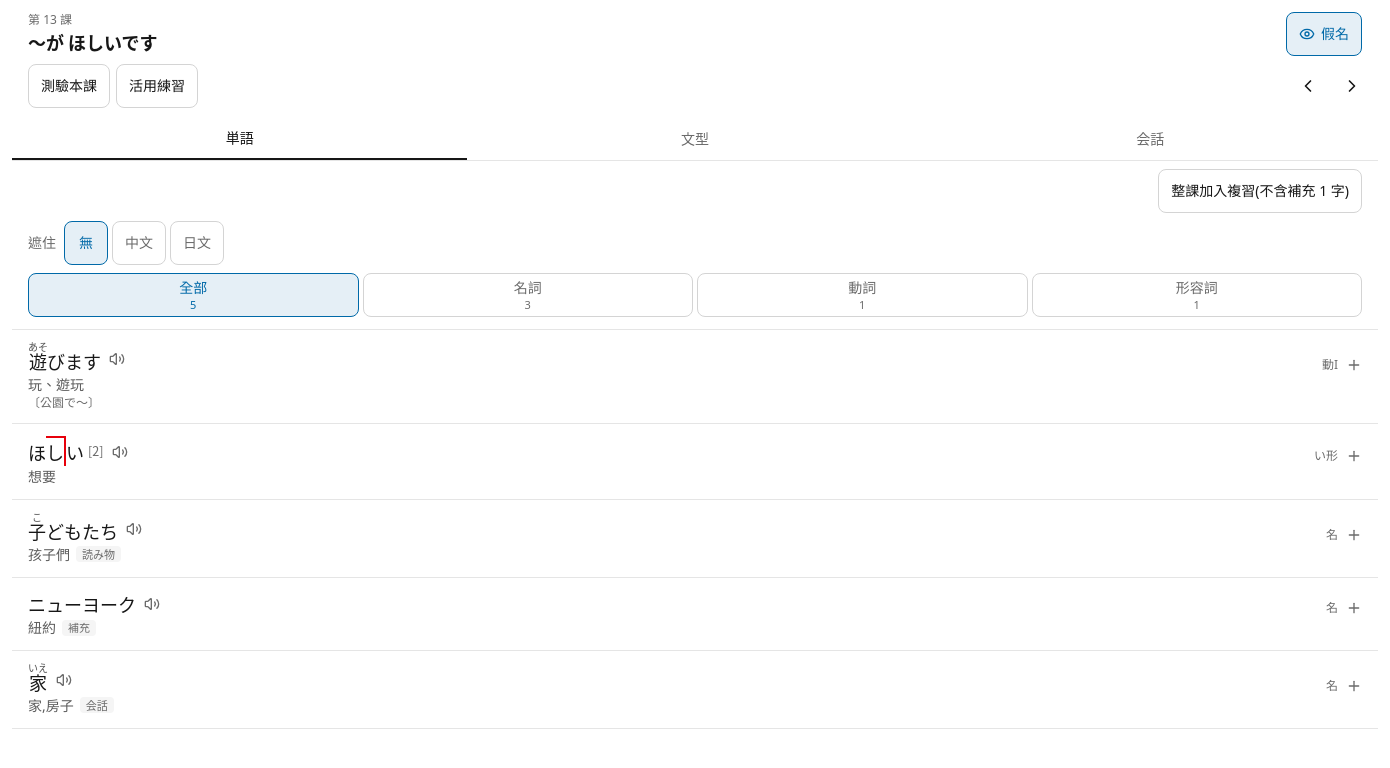
Test: LessonDetail 自我測驗與詞性篩選(T11.1) › 遮中文:釋義與 note 不在無障礙樹中,點擊揭示(aria-expanded)、再點遮回
Expected: the text "玩、遊玩" is shown, 28,375 -> 84,394
Step 1. Click the button "中文" → (139, 243), box 112,221 -> 166,265
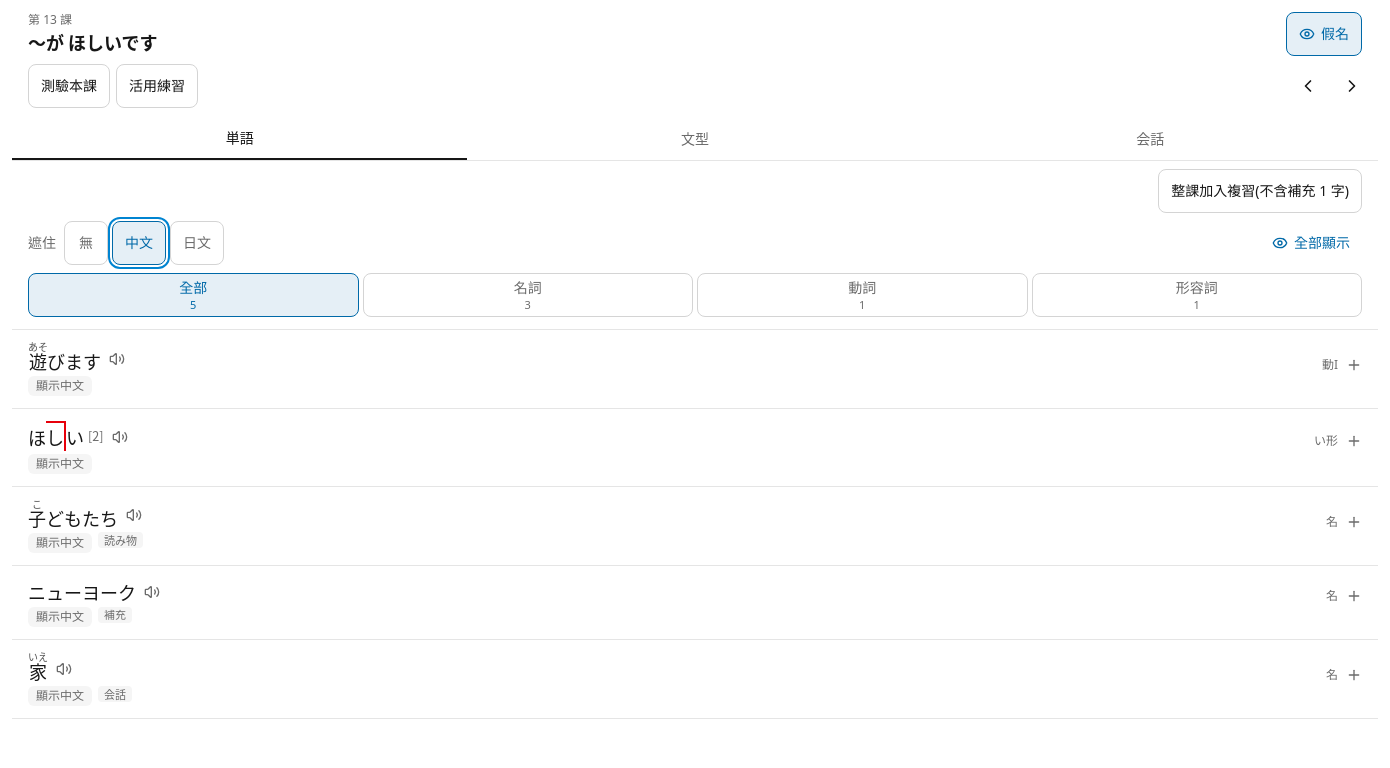
Expected: the text "玩、遊玩" is gone
Expected: the text "〔公園で〜〕" is gone
Expected: the button with aria-label "顯示中文:あそびます" reads "顯示中文"
Step 2. Click the button with aria-label "顯示中文:あそびます" → (60, 386), box 28,363 -> 92,408
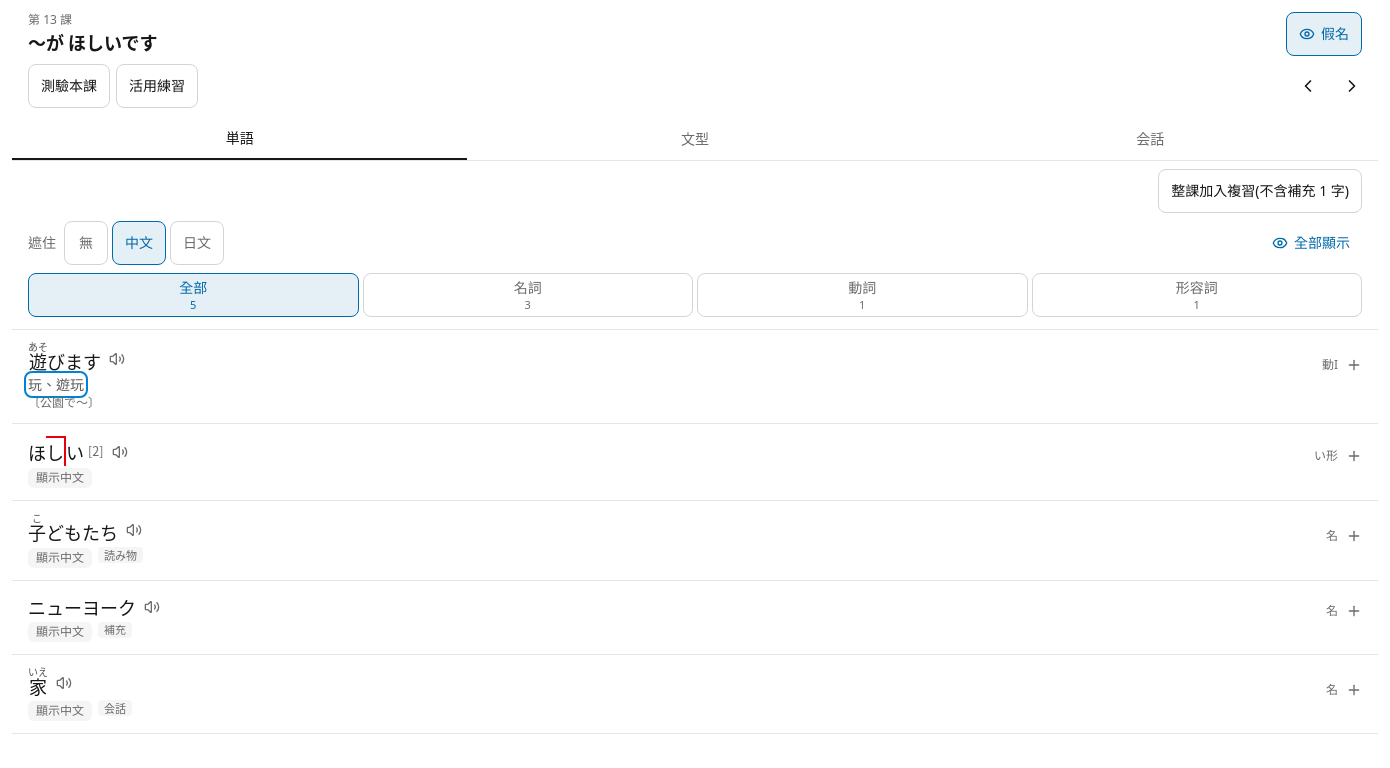
Expected: the text "想要" is not shown
Expected: the button named "顯示中文:あそびます" is expanded
Expected: the text "〔公園で〜〕" is shown, 28,394 -> 100,411
Step 3. Click the button "玩、遊玩" → (56, 385), box 28,363 -> 84,407
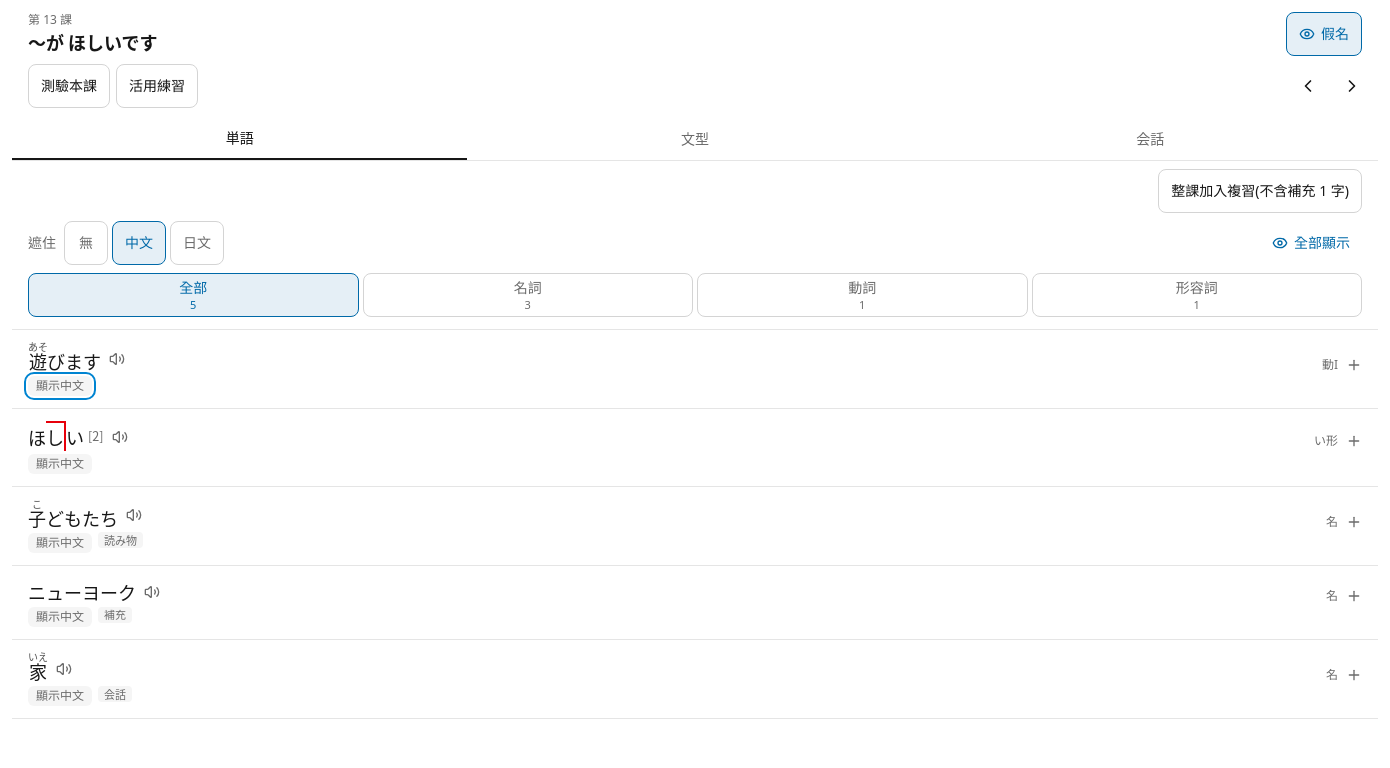
Expected: the button named "玩、遊玩" is collapsed, 28,363 -> 92,408
Expected: the button "玩、遊玩" is gone
